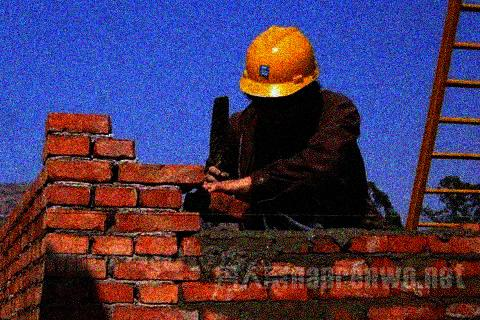helmet: (239, 23, 322, 134)
